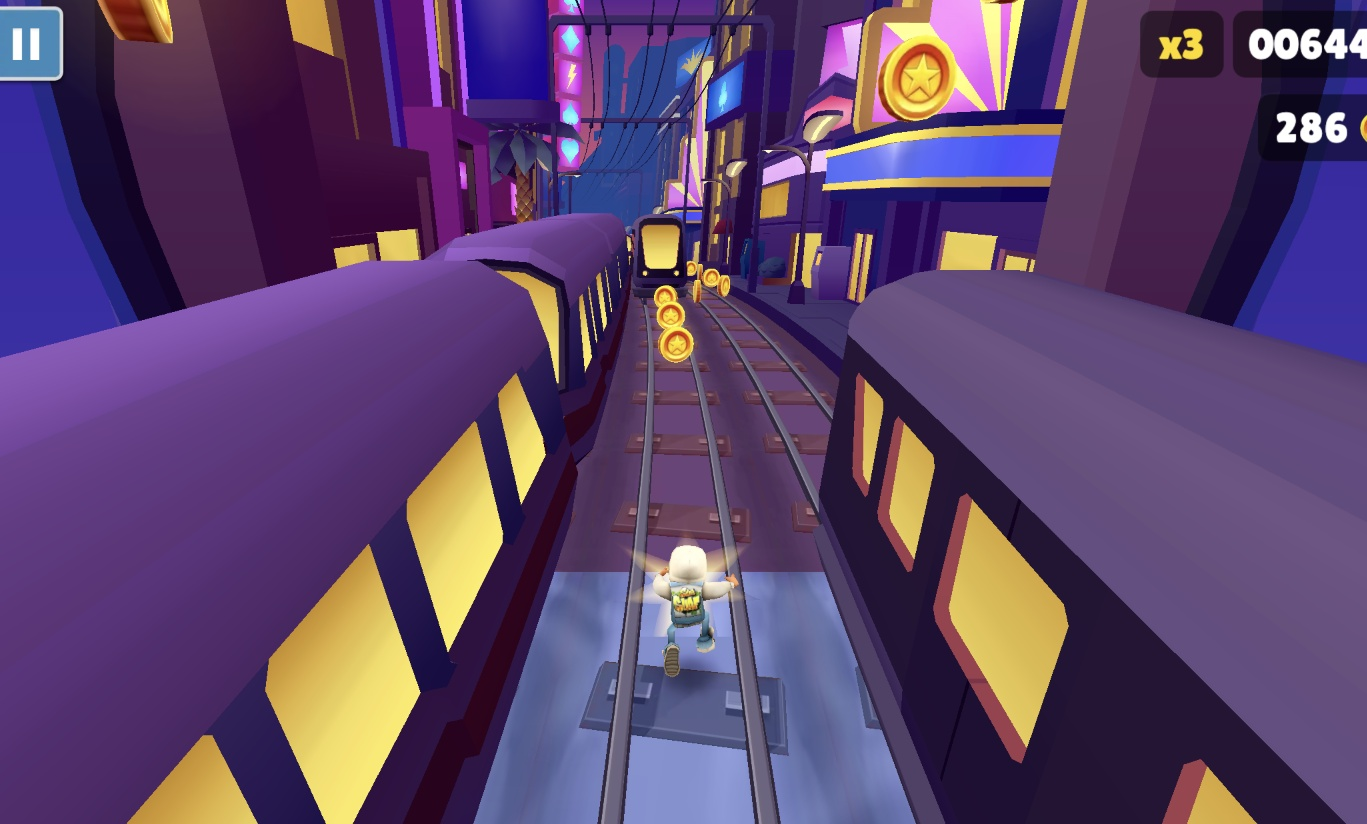train: (0, 212, 634, 824), (822, 266, 1367, 824), (629, 213, 688, 301)
